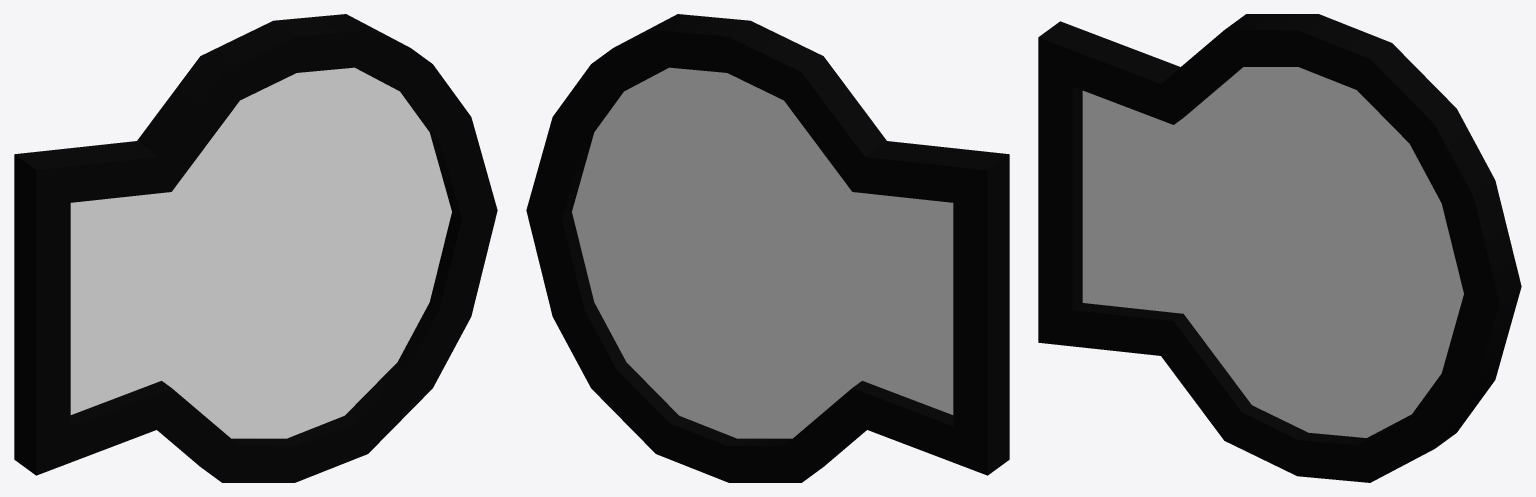
The model's file is Sigh_001.FBX.
3 views of the same model, side by side, from view 1: azimuth 30°, elevation 25°; view 2: azimuth 150°, elevation 25°; view 3: azimuth 330°, elevation 25° (orthographic).
Visible parts, largest first — view 1: Sigh_001; view 2: Sigh_001; view 3: Sigh_001.
Part boxes in pixels (<box>): Sigh_001: <box>14,14,497,482</box>; Sigh_001: <box>526,14,1009,482</box>; Sigh_001: <box>1038,14,1521,482</box>.
Bounding box in the file's own units: 26.84 × 2.21 × 24.8.
